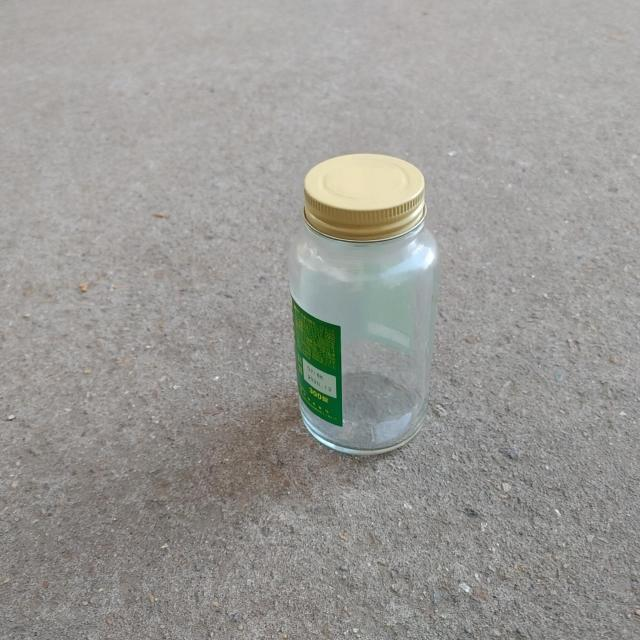glass: (288, 153, 440, 456)
